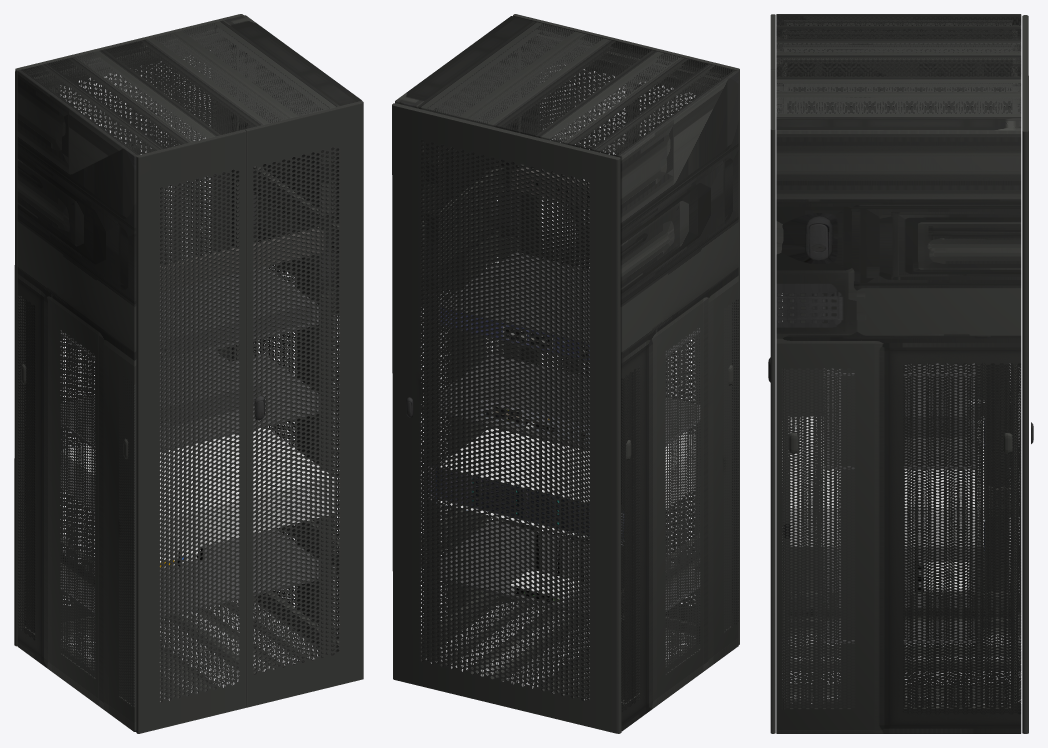
The model's file is JiGui.fbx.
3 renders of one model, left to right at view 1: azimuth 30°, elevation 25°; view 2: azimuth 150°, elevation 25°; view 3: azimuth 270°, elevation 25°, orthographic. The views are drawn at different scales.
Visible parts, largest first — view 1: SM_YiHaoJiGui_WaiKeZhuTi, SM_YiHaoJiGui_WaiKeHuoMenZhuo, SM_YiHaoJiGui_WaiKeHouMenYou, SM_YiHaoJiGui_WaiKeQianMen, JiaoHuanJi4 (×3), FuWuQi, JiaoHuanJi13, pCube1; view 2: SM_YiHaoJiGui_WaiKeQianMen, SM_YiHaoJiGui_WaiKeZhuTi, JiaoHuanJi4 (×3), FuWuQi, SM_YiHaoJiGui_WaiKeHuoMenZhuo, SM_YiHaoJiGui_WaiKeHouMenYou, JiaoHuanJi13, pCube1; view 3: SM_YiHaoJiGui_WaiKeZhuTi, SM_YiHaoJiGui_WaiKeQianMen, SM_YiHaoJiGui_WaiKeHuoMenZhuo, FuWuQi, JiaoHuanJi4 (×2), JiaoHuanJi13, JiaoHuanJi11.
Part boxes in pixels (x1,y1,x2,y2): SM_YiHaoJiGui_WaiKeZhuTi: (17, 15, 361, 731); SM_YiHaoJiGui_WaiKeHuoMenZhuo: (244, 101, 363, 707); SM_YiHaoJiGui_WaiKeHouMenYou: (136, 129, 246, 733); SM_YiHaoJiGui_WaiKeQianMen: (14, 14, 243, 646); JiaoHuanJi4 (×3): (60, 267, 334, 450); FuWuQi: (60, 428, 334, 555); JiaoHuanJi13: (60, 529, 334, 618); pCube1: (160, 227, 323, 292); SM_YiHaoJiGui_WaiKeQianMen: (392, 103, 621, 733); SM_YiHaoJiGui_WaiKeZhuTi: (395, 16, 738, 731); JiaoHuanJi4 (×3): (421, 252, 700, 450); FuWuQi: (428, 428, 695, 545); SM_YiHaoJiGui_WaiKeHuoMenZhuo: (513, 14, 631, 543); SM_YiHaoJiGui_WaiKeHouMenYou: (630, 42, 739, 644); JiaoHuanJi13: (421, 521, 700, 615); pCube1: (518, 165, 589, 207); SM_YiHaoJiGui_WaiKeZhuTi: (776, 14, 1021, 733); SM_YiHaoJiGui_WaiKeQianMen: (1022, 15, 1033, 733); SM_YiHaoJiGui_WaiKeHuoMenZhuo: (768, 70, 775, 733); FuWuQi: (782, 416, 985, 550); JiaoHuanJi4 (×2): (823, 376, 975, 469); JiaoHuanJi13: (823, 546, 975, 643); JiaoHuanJi11: (823, 363, 975, 375).
Size of the model in its own units: 88.43 by 210 by 83.75.
Materials: 30 (6 with a texture image).
